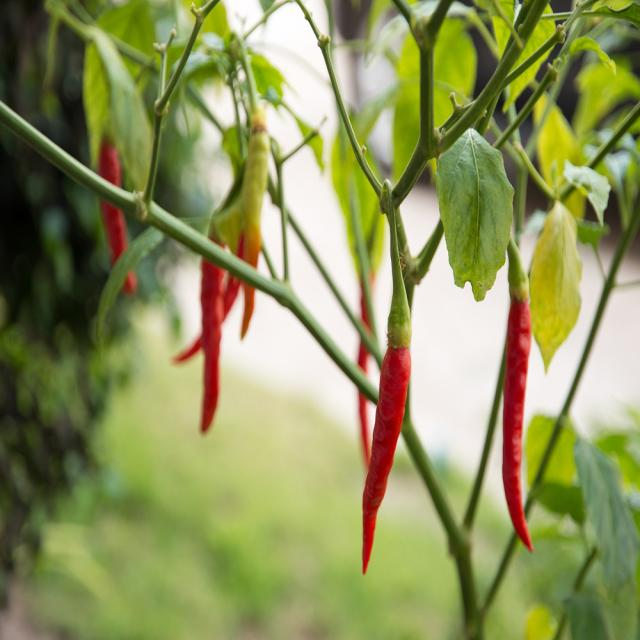Ripe: (362, 347, 411, 573), (502, 298, 532, 551), (200, 259, 225, 432)
